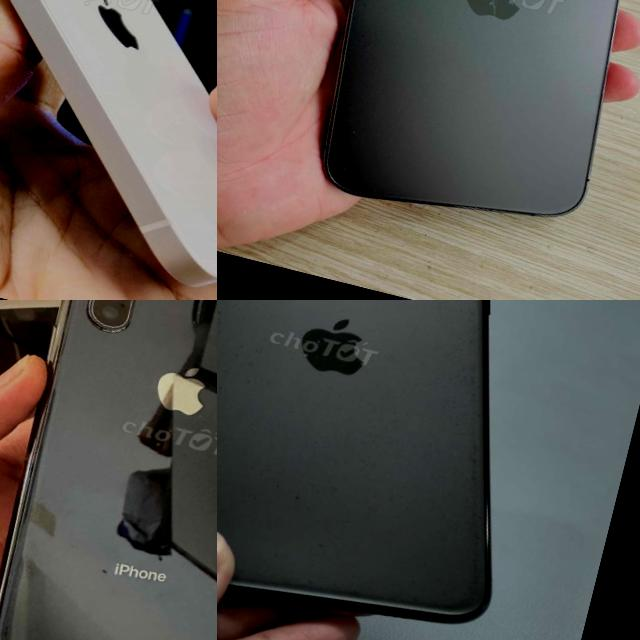gen_11: (217, 300, 601, 640)
gen_12_13: (284, 0, 640, 252), (0, 0, 217, 300)
gen_x_xs: (0, 300, 217, 640)
scratch: (79, 556, 120, 592), (181, 306, 215, 338), (186, 407, 207, 427)
